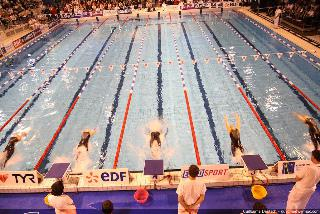swimmer: (291, 111, 320, 149), (0, 131, 28, 168), (224, 112, 246, 156), (72, 130, 98, 154), (148, 128, 162, 148)
